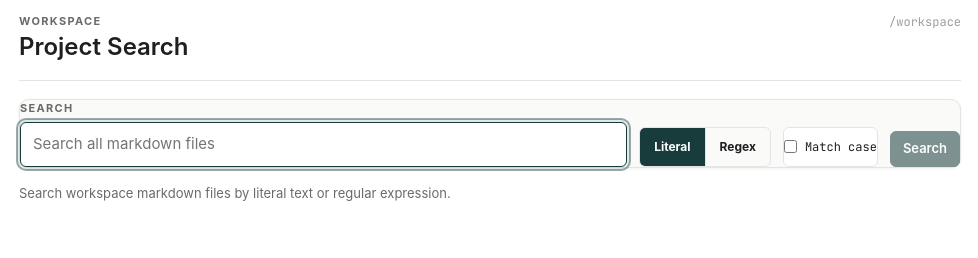
Test case: ProjectSearchView › surfaces backend search errors
Type "(" into the search field named "Search workspace" at (324, 144), box [20,122,627,166]
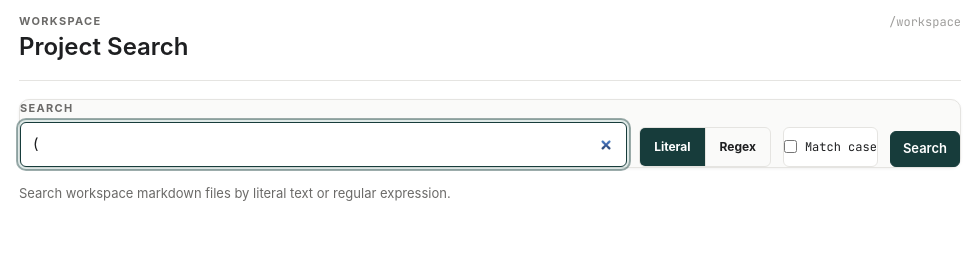
Click the tab "Regex" at (737, 146), box [704,128,770,166]
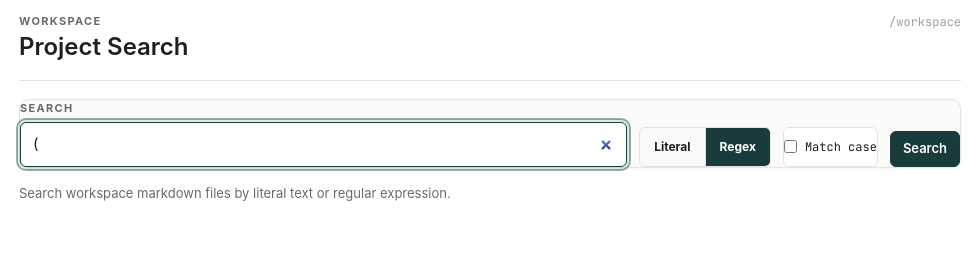
Click the button "Search" at (925, 149), box [890,131,960,166]
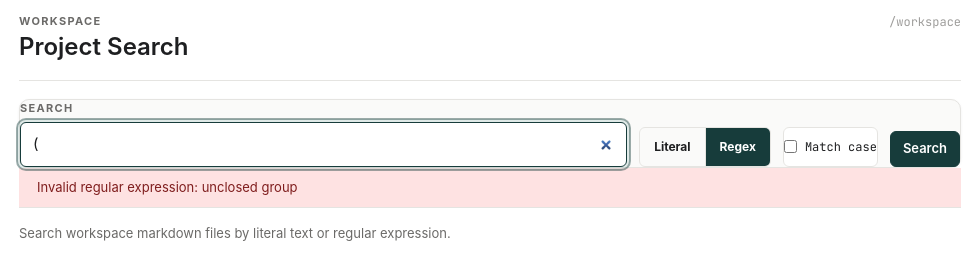
Result: the text "Invalid regular expression: unclosed group" is shown at [19,168,961,208]
